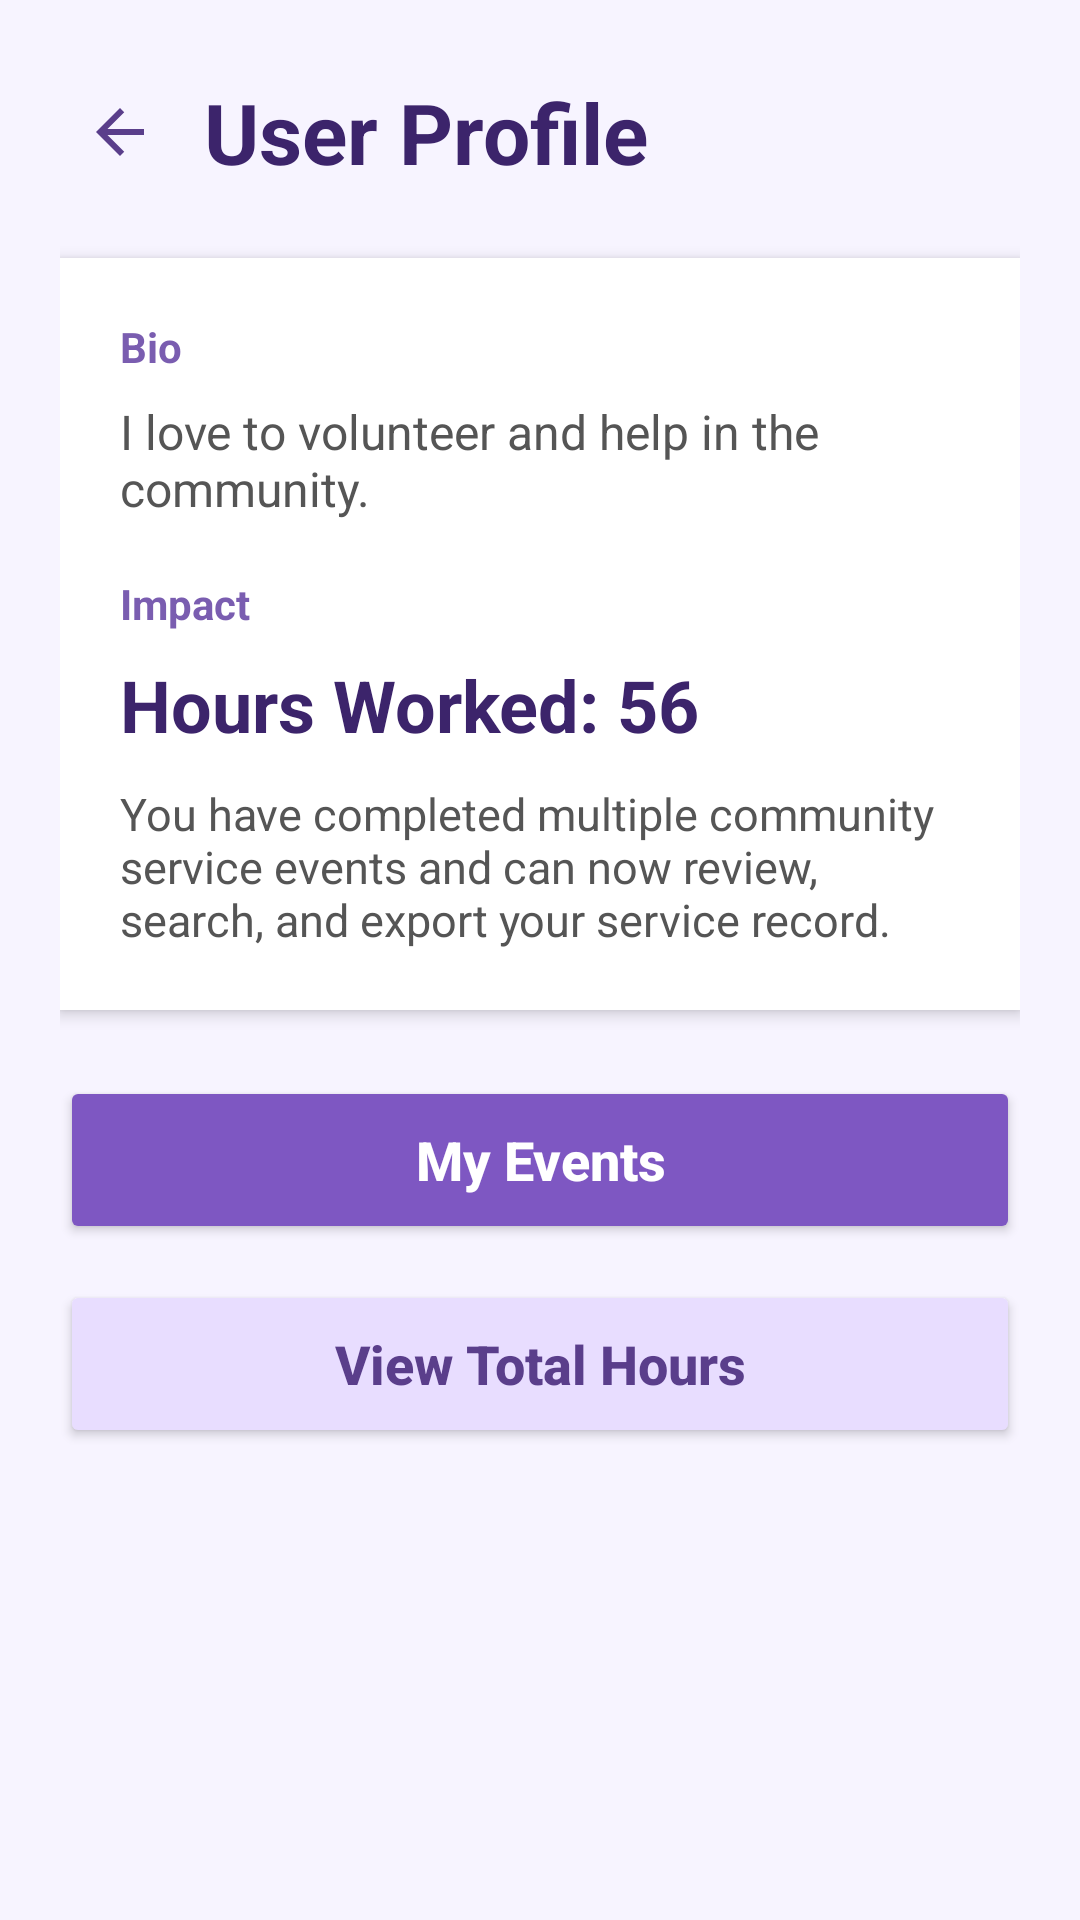

Icons on this 1080w x 1920h Android screen, each with its box as detection(x1, y1, x2, y2):
Back: detection(96, 108, 144, 156)
